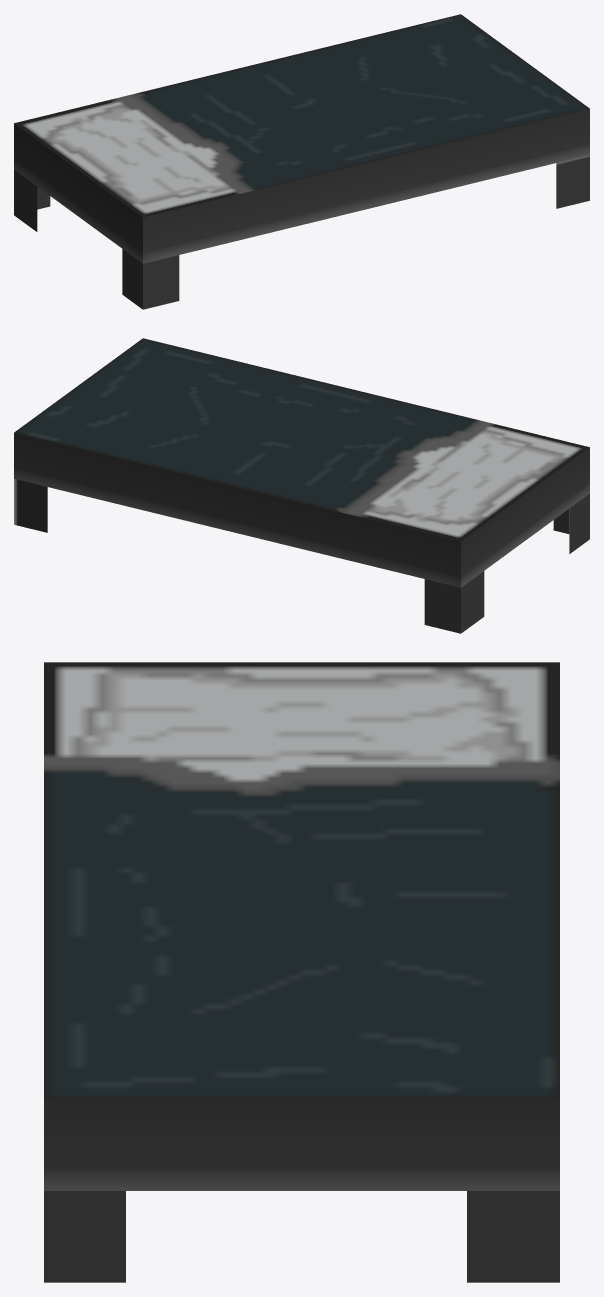
The model's file is Bed.fbx.
3 views of the same model, one above another, from view 1: azimuth 30°, elevation 25°; view 2: azimuth 150°, elevation 25°; view 3: azimuth 270°, elevation 25° (orthographic). The views are drawn at different scales.
Parts seen in each view (by area): view 1: Bed; view 2: Bed; view 3: Bed.
Part boxes in pixels (x1,y1,x2,y2): Bed: (14, 14, 589, 309); Bed: (14, 338, 589, 633); Bed: (44, 662, 559, 1282).
Bounding box in the file's own units: 2 × 0.3937 × 1.
